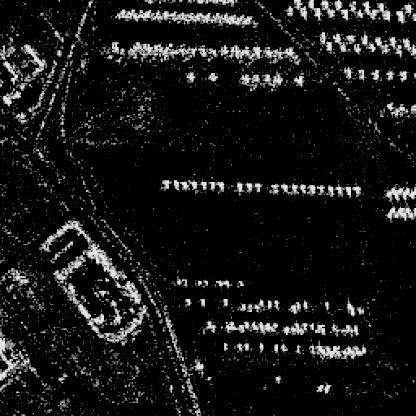airplane: (395, 42, 405, 56), (359, 31, 371, 42), (215, 278, 229, 286), (340, 41, 350, 52), (197, 276, 208, 286), (352, 42, 362, 52), (299, 6, 309, 16), (398, 68, 406, 80), (388, 34, 396, 46), (318, 30, 326, 42), (185, 72, 197, 80), (176, 276, 188, 284), (332, 32, 341, 42), (403, 3, 413, 12), (370, 67, 378, 78), (356, 67, 364, 78), (343, 65, 351, 76), (403, 36, 411, 47), (325, 39, 333, 50), (362, 0, 370, 11), (188, 180, 198, 188), (200, 178, 208, 188), (208, 178, 216, 188), (236, 180, 244, 190), (299, 182, 307, 192), (317, 184, 327, 192), (385, 102, 395, 110), (385, 68, 393, 78), (380, 42, 388, 52), (374, 34, 382, 44), (395, 10, 403, 20), (382, 10, 392, 18), (367, 10, 377, 18), (340, 8, 348, 18), (312, 8, 322, 16), (208, 72, 216, 82), (271, 73, 281, 81), (292, 73, 302, 81), (224, 320, 234, 328), (354, 306, 364, 314), (368, 42, 376, 51), (236, 324, 245, 332), (324, 384, 332, 393), (180, 180, 187, 190), (245, 180, 252, 190), (328, 184, 335, 194), (325, 8, 335, 15), (250, 320, 257, 330), (323, 299, 330, 309), (161, 179, 169, 187), (252, 182, 260, 190), (281, 182, 289, 190), (344, 186, 352, 194), (352, 184, 360, 192), (333, 0, 341, 8), (320, 0, 328, 8), (240, 73, 248, 81), (250, 75, 258, 83), (262, 73, 270, 81), (290, 304, 298, 312), (316, 384, 324, 392), (218, 178, 224, 188), (396, 106, 406, 112), (286, 5, 292, 15), (257, 320, 263, 330), (172, 179, 179, 187), (271, 182, 278, 190), (336, 184, 343, 192), (346, 34, 354, 41), (349, 0, 356, 8), (307, 0, 314, 8), (238, 278, 245, 286), (302, 300, 309, 308), (271, 320, 278, 328), (377, 1, 383, 10), (265, 322, 270, 332), (390, 205, 396, 213), (396, 205, 402, 213), (392, 190, 398, 198), (291, 182, 299, 188), (309, 184, 315, 192), (206, 318, 212, 326), (195, 361, 203, 367), (265, 298, 271, 306), (283, 325, 289, 333), (244, 320, 250, 328), (348, 306, 354, 314), (387, 212, 393, 219), (385, 189, 392, 195), (398, 192, 405, 198), (404, 185, 410, 192), (184, 297, 190, 304), (239, 302, 245, 309), (258, 297, 264, 304), (406, 210, 411, 218), (221, 342, 226, 350), (247, 302, 252, 310), (273, 298, 278, 306), (294, 300, 299, 308), (273, 343, 278, 351), (281, 343, 286, 351), (408, 192, 414, 198), (392, 109, 398, 115), (294, 0, 300, 6), (236, 343, 242, 349), (258, 343, 264, 349), (345, 301, 351, 307), (388, 185, 395, 190), (200, 297, 205, 304), (221, 297, 226, 304), (358, 8, 362, 16), (244, 343, 249, 349), (400, 210, 404, 216), (404, 205, 408, 211), (254, 304, 258, 310), (396, 187, 400, 192), (393, 210, 396, 216)
